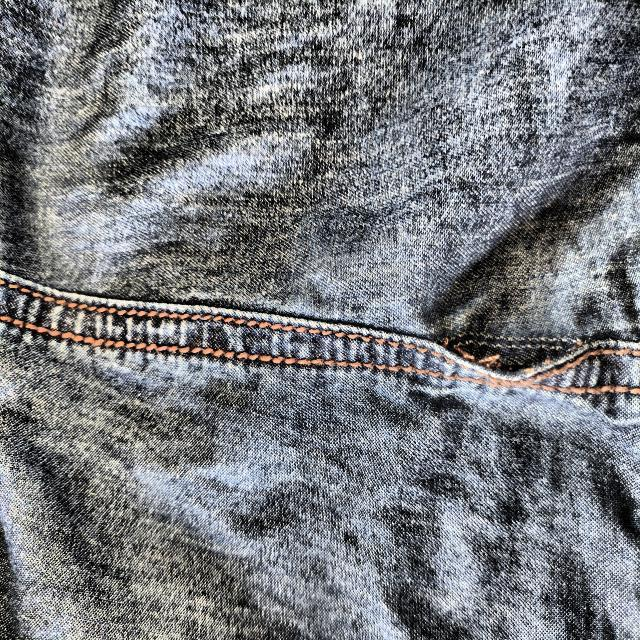gray stitch: (434, 316, 582, 402)
